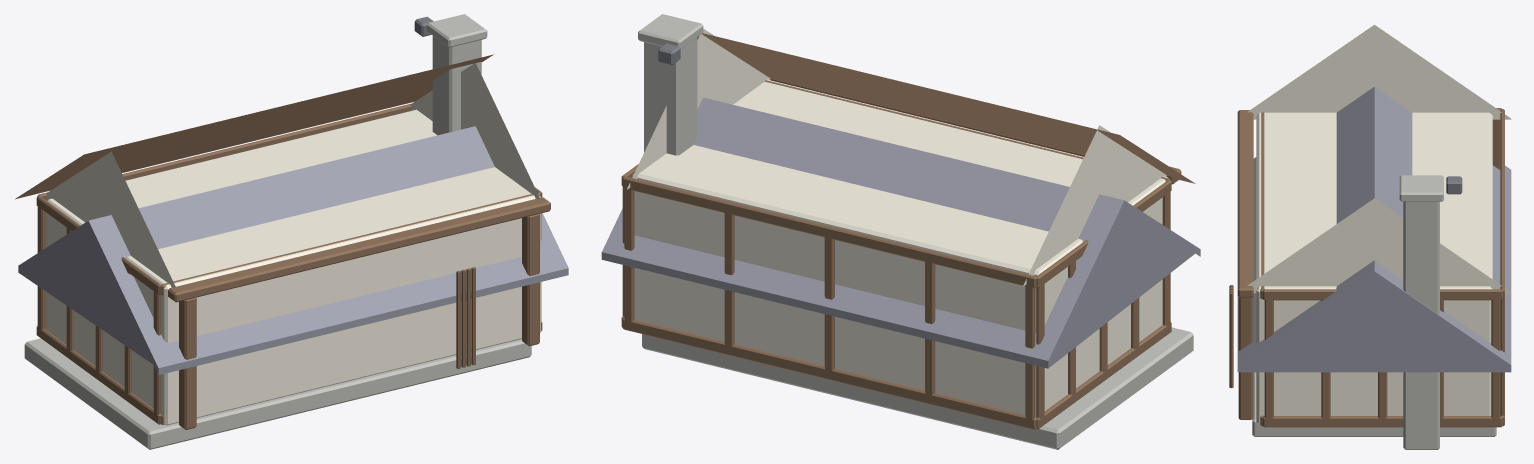
File: town_guard_barracks.glb
3 renders of one model, left to right at view 1: azimuth 30°, elevation 25°; view 2: azimuth 150°, elevation 25°; view 3: azimuth 270°, elevation 25°, orthographic. The views are drawn at different scales.
Visible parts, largest first — view 1: world; view 2: world; view 3: world.
Part boxes in pixels (x1,y1,x2,y2): world: [15, 14, 568, 449]; world: [601, 14, 1200, 449]; world: [1229, 25, 1511, 449].
Bounding box in the file's own units: 2 × 1.22 × 1.24.
